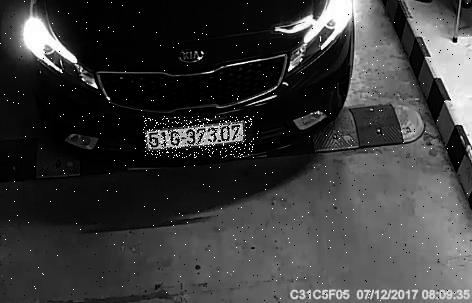License-plate: (145, 117, 256, 159)
